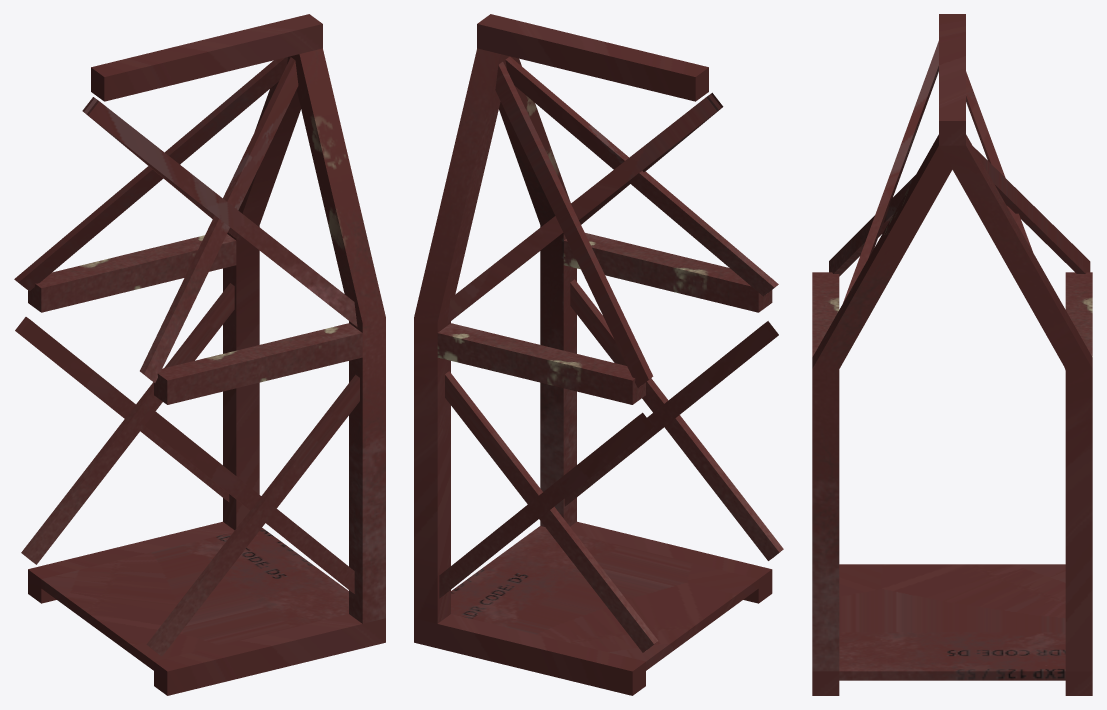
File: CS_crane_03.FBX
3 renders of one model, left to right at view 1: azimuth 30°, elevation 25°; view 2: azimuth 150°, elevation 25°; view 3: azimuth 270°, elevation 25°, orthographic.
Visible parts, largest first — view 1: SM_crane_03; view 2: SM_crane_03; view 3: SM_crane_03.
Part boxes in pixels (x1,y1,x2,y2): SM_crane_03: (14,14,385,695); SM_crane_03: (414,14,783,695); SM_crane_03: (812,14,1092,695).
Bounding box in the file's own units: 150 × 155 × 351.
